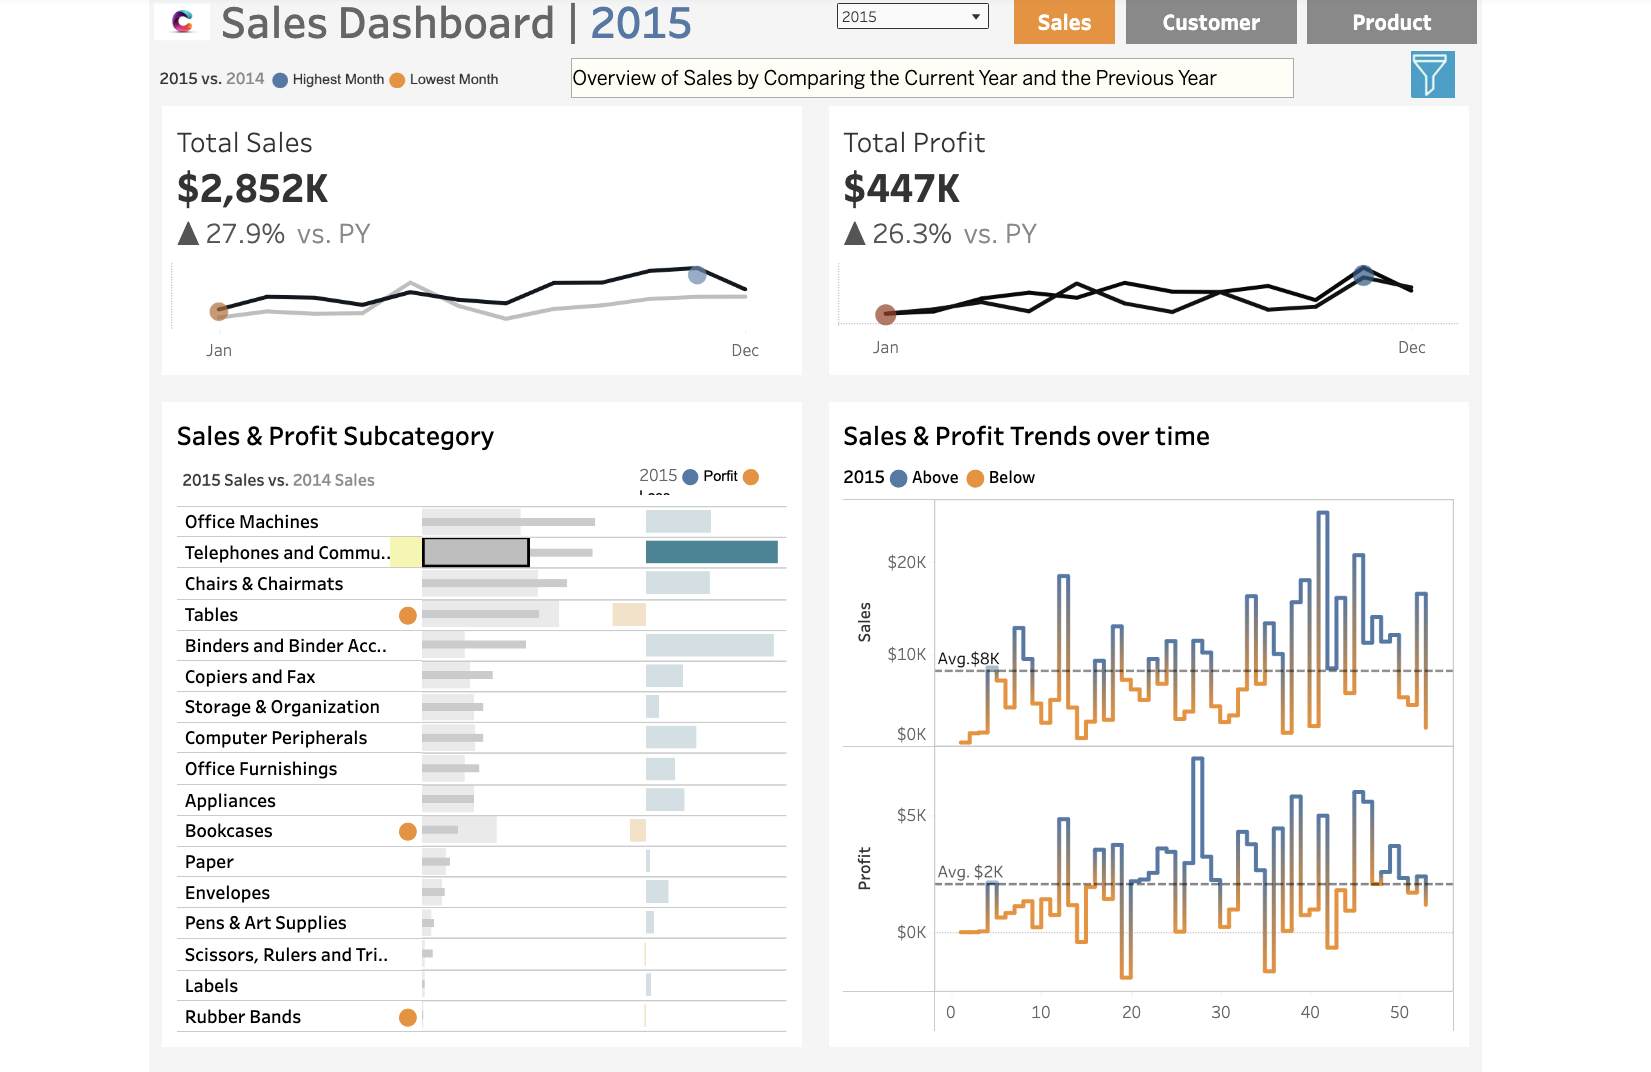

This screenshot's page, from the dashboard's own definition file:
{"tool":"tableau","page":{"name":"Sale Dashboard","canvas":[1000,800],"ordinal":2},"visuals":[{"type":"image","param":"Image/colorful_logo_1.jpg","box":[0,0,50,42]},{"type":"text","box":[50,0,595,42]},{"type":"dashboard-object","box":[645,0,84,42]},{"type":"dashboard-object","box":[729,0,135.5,42]},{"type":"dashboard-object","box":[864.5,0,135.5,42]},{"type":"parameter","param":"[Parameters].[Parameter 1]","box":[515,7,116,41]},{"type":"worksheet","title":"Legend KPI","mark":"Automatic","box":[0,42,1000,42]},{"type":"dashboard-object","box":[937,43,52,35]},{"type":"worksheet","title":"KPI Sales","mark":"Automatic","rows":["Calculation_1947666151806963717"],"cols":["Order Date"],"box":[0,84,500,212]},{"type":"worksheet","title":"KPI Profit","mark":"Automatic","rows":["Min/Max Sales (copy)_1947666151817220108"],"cols":["Order Date"],"box":[500,84,500,212]},{"type":"text","box":[17,313,466,34]},{"type":"text","box":[517,313,466,34]},{"type":"worksheet","title":"Legend Subcategory","mark":"Automatic","box":[17,347,347,32]},{"type":"text","box":[364,347,119,32]},{"type":"text","box":[517,347,466,26]},{"type":"worksheet","title":"Weeky Trends","mark":"Automatic","rows":["Calculation_1947666151801610240","CY Sales (copy)_1947666151816785930"],"cols":["Order Date"],"box":[517,373,466,410]},{"type":"worksheet","title":"Subcategory Comparison","mark":"Bar","rows":["Product Sub-Category","Calculation_1947666151832010769"],"cols":["CY Sales (copy)_1947666151802060801","Calculation_1947666151801610240","CY Sales (copy)_1947666151816785930"],"box":[17,379,466,403.9]}]}

Visuals, with their boxes on the page's 1000x800 design canvas (x1, y1, x2, y2). These are canvas units, not pixel positions in the 1651x1072 screenshot, which may show the page scaled, cropped or inside an application window:
image: left=0, top=0, right=50, bottom=42
text: left=50, top=0, right=645, bottom=42
dashboard-object: left=645, top=0, right=729, bottom=42
dashboard-object: left=729, top=0, right=864, bottom=42
dashboard-object: left=864, top=0, right=1000, bottom=42
parameter: left=515, top=7, right=631, bottom=48
"Legend KPI" worksheet: left=0, top=42, right=1000, bottom=84
dashboard-object: left=937, top=43, right=989, bottom=78
"KPI Sales" worksheet: left=0, top=84, right=500, bottom=296
"KPI Profit" worksheet: left=500, top=84, right=1000, bottom=296
text: left=17, top=313, right=483, bottom=347
text: left=517, top=313, right=983, bottom=347
"Legend Subcategory" worksheet: left=17, top=347, right=364, bottom=379
text: left=364, top=347, right=483, bottom=379
text: left=517, top=347, right=983, bottom=373
"Weeky Trends" worksheet: left=517, top=373, right=983, bottom=783
"Subcategory Comparison" worksheet (Bar marks): left=17, top=379, right=483, bottom=783
